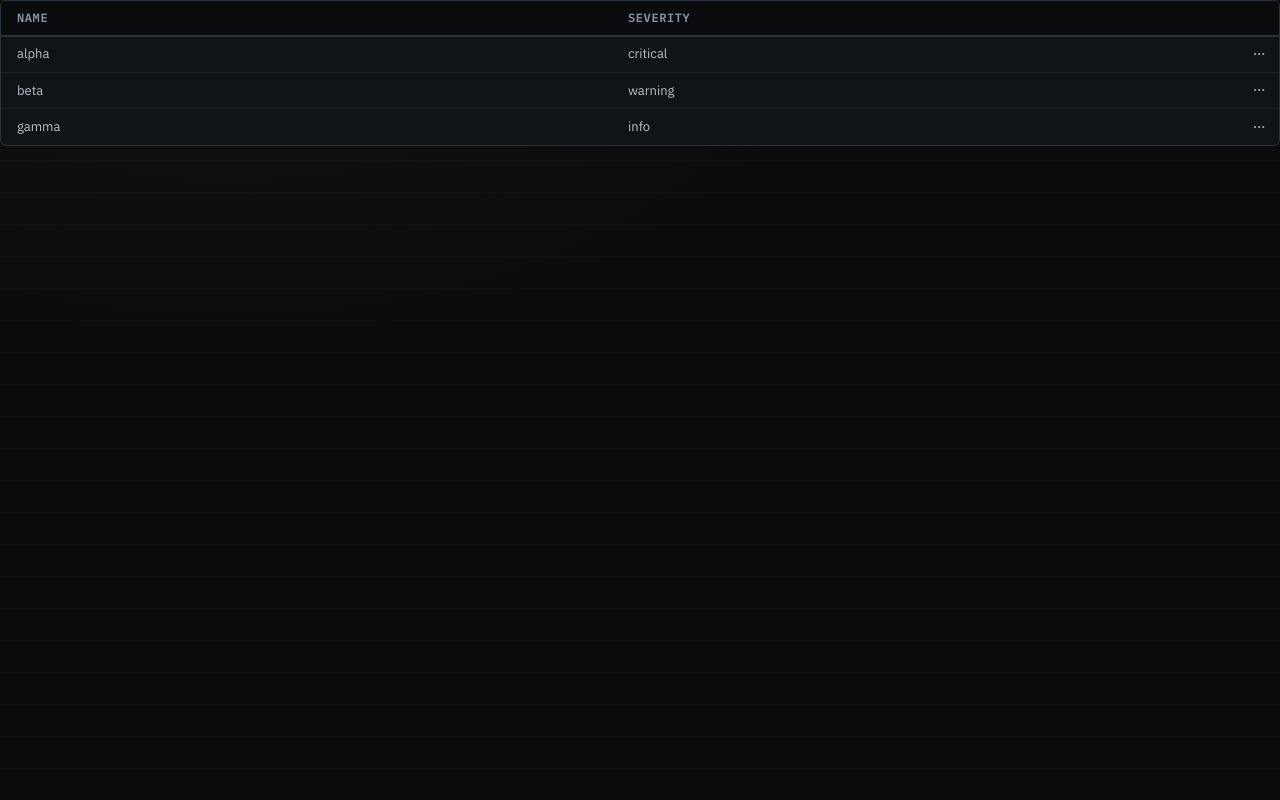
Test case: DataTable › detail drawer › auto-appends a 'View details' kebab item (even without rowActions) that opens the drawer
Click the button named "row actions" in the row of "beta".
click(1259, 90)  # box [1245,76,1273,104]
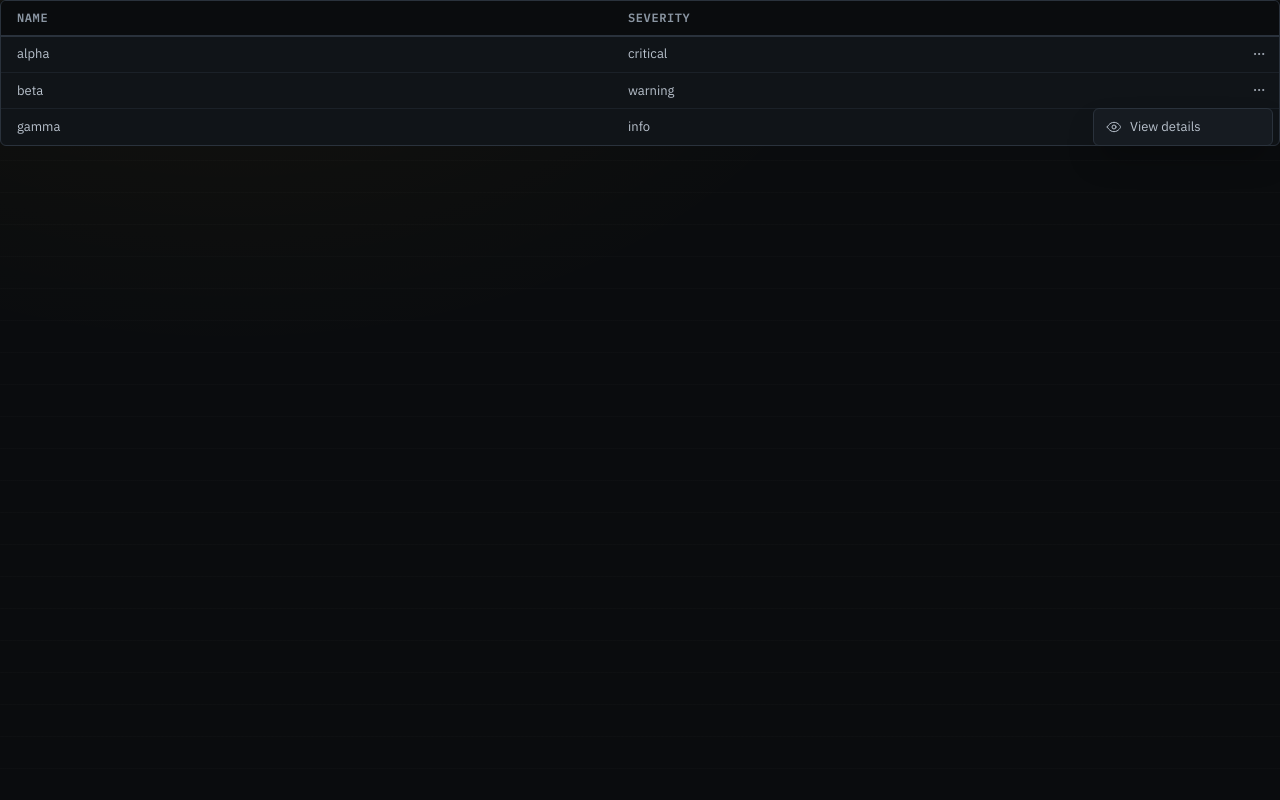
Click the menu item "View details".
click(1153, 126)  # box [1106,118,1201,135]
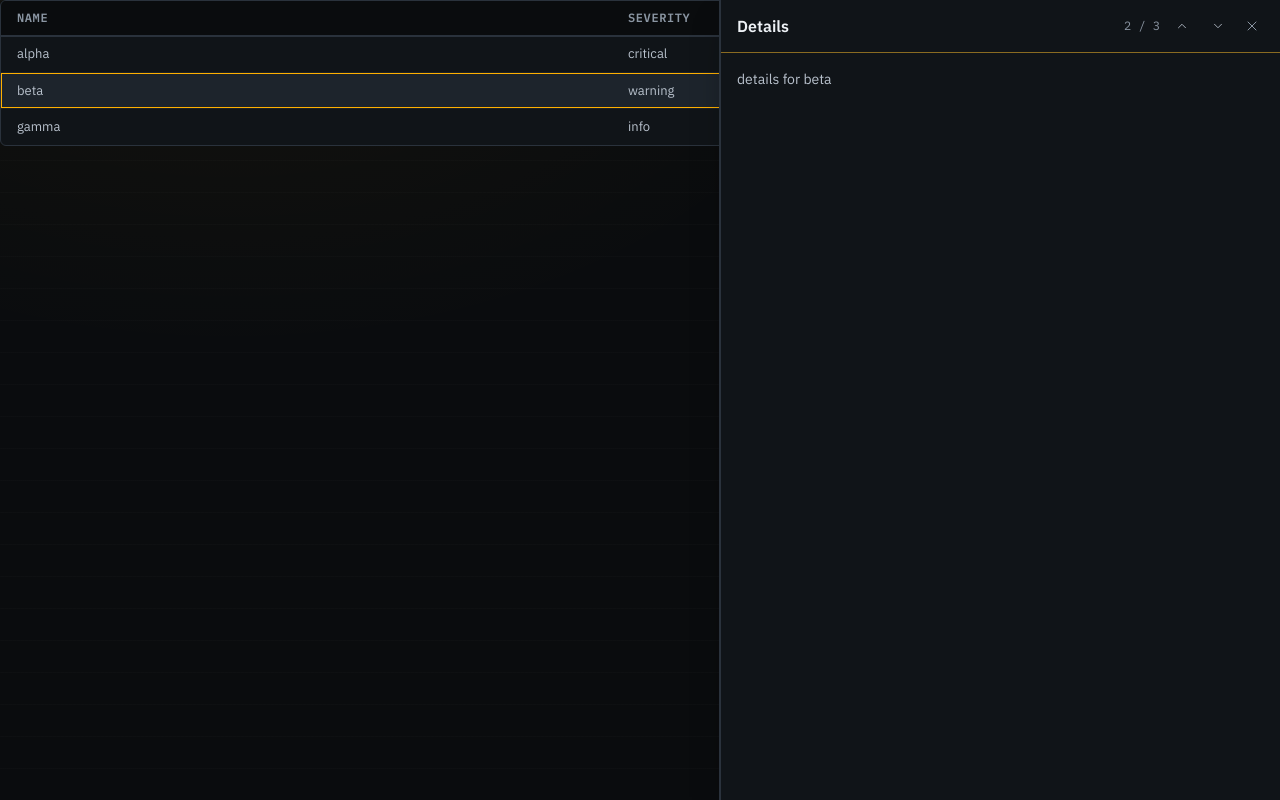
Result: the text "details for beta" is shown at [737,70,832,88]
